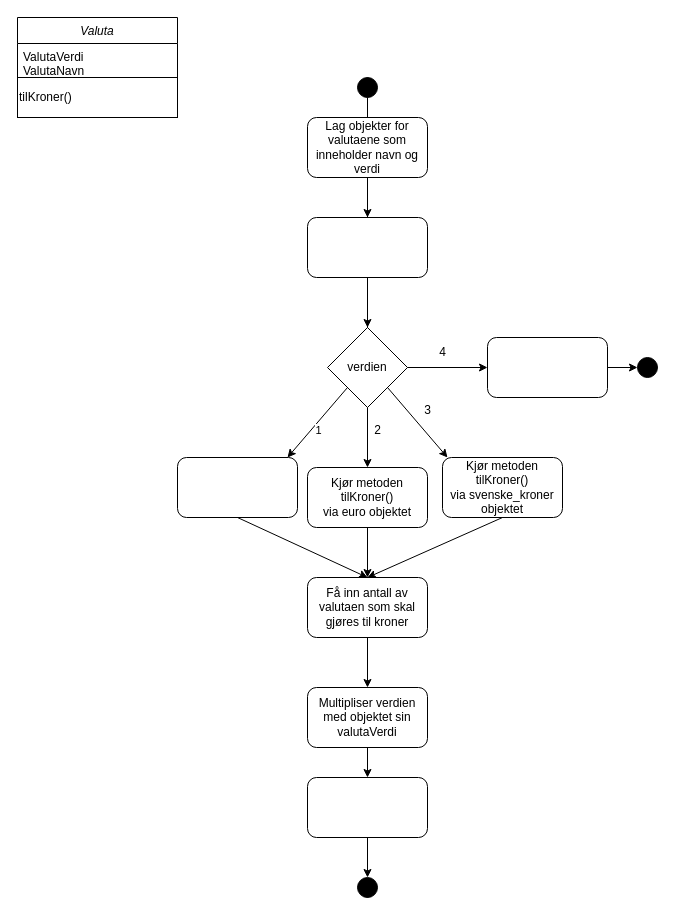
Some shapes in this 683 by 923 pixel diagram are drawn without their labels. The shapes that lost their labels are listed below. From the top down, each one's box as (x1, y1, x2, y2) in pixels, then its label:
(306, 216, 428, 278): Få inn verdi som bestemmer valuta
(486, 336, 608, 398): Avslutt programmet
(176, 456, 298, 518): Kjør metoden tilKroner() via dollar objektet
(306, 776, 428, 838): Skriv ut svaret
